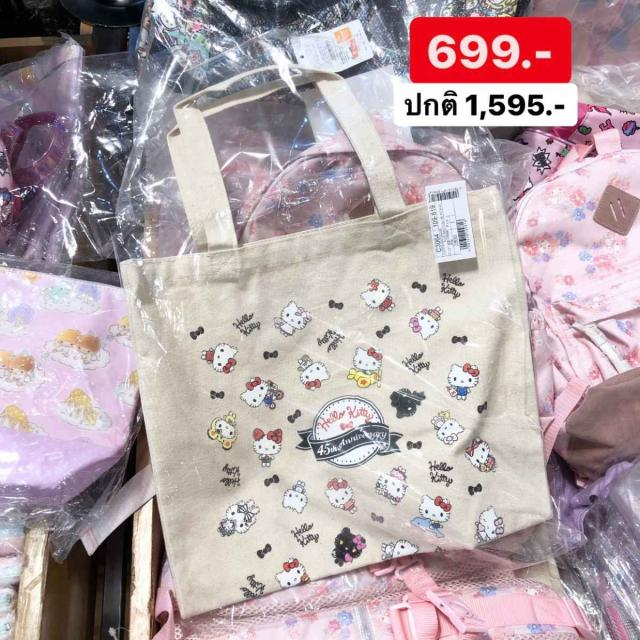Handbag: (105, 189, 549, 621)
